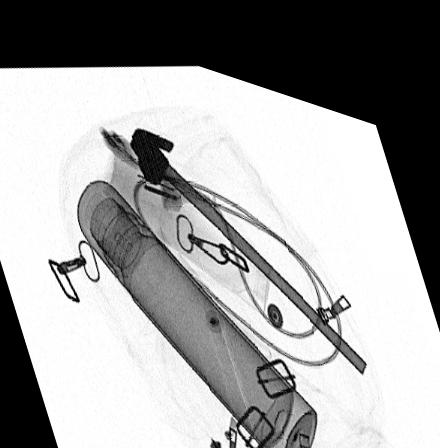Hammer: (128, 118, 367, 351)
